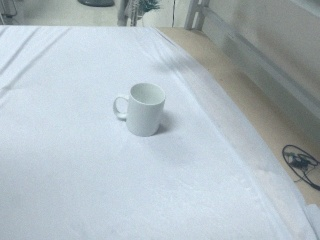cup: (112, 81, 171, 137)
